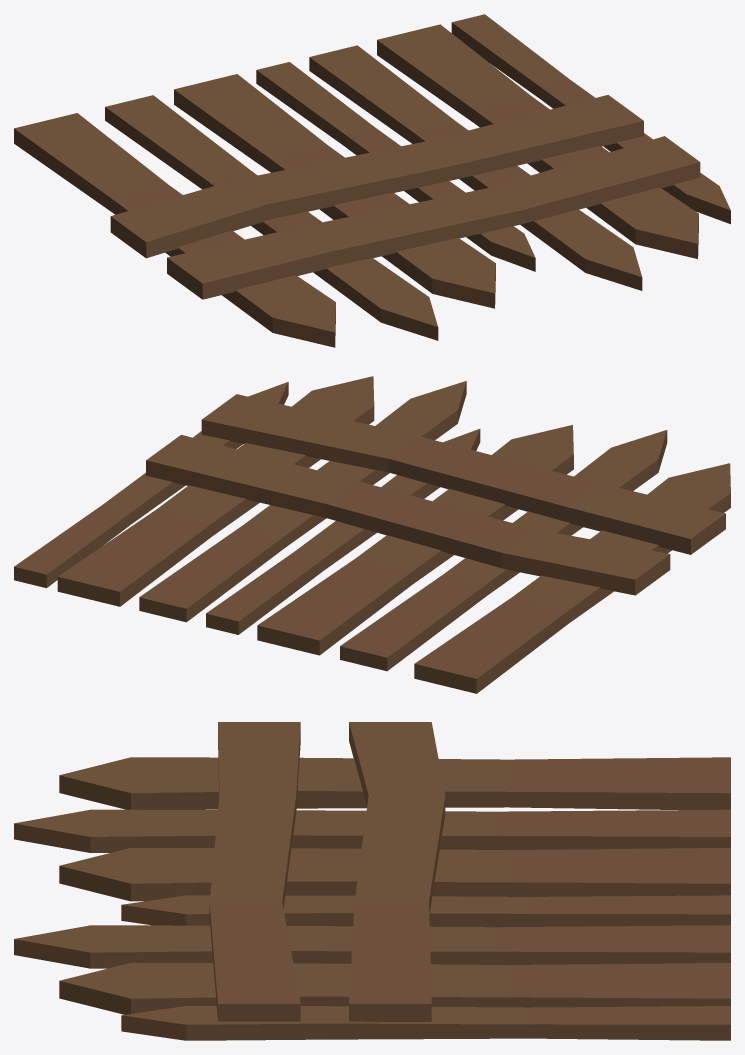
The model's file is Barrier_01_center.fbx.
3 views of the same model, one above another, from view 1: azimuth 30°, elevation 25°; view 2: azimuth 150°, elevation 25°; view 3: azimuth 270°, elevation 25° (orthographic). The views are drawn at different scales.
Visible parts, largest first — view 1: barriere_1.0 centre; view 2: barriere_1.0 centre; view 3: barriere_1.0 centre.
Part boxes in pixels (bbox=[...]): barriere_1.0 centre: bbox=[14, 14, 730, 347]; barriere_1.0 centre: bbox=[14, 376, 730, 693]; barriere_1.0 centre: bbox=[14, 722, 730, 1040].
Size of the model in its own units: 99.13 by 5.59 by 105.
